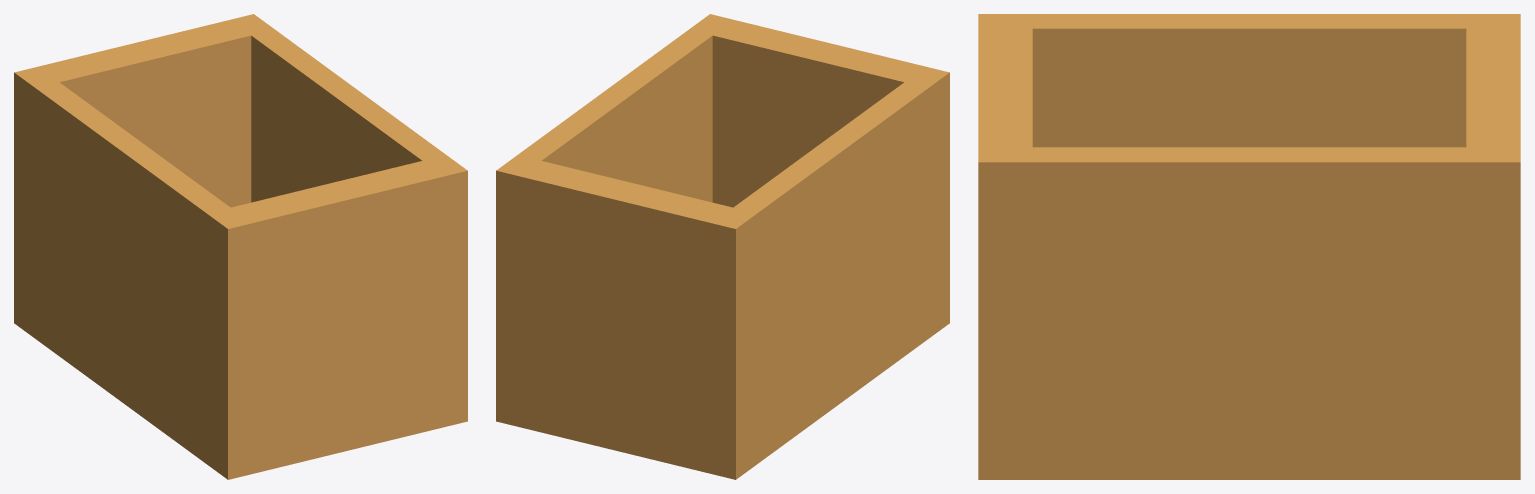
3 views of the same model, side by side, from view 1: azimuth 30°, elevation 25°; view 2: azimuth 150°, elevation 25°; view 3: azimuth 270°, elevation 25° (orthographic). The views are drawn at different scales.
Parts seen in each view (by area): view 1: Box2; view 2: Box2; view 3: Box2.
Part boxes in pixels (x1,y1,x2,y2): Box2: [14, 14, 467, 479]; Box2: [496, 14, 949, 479]; Box2: [978, 14, 1520, 479].
Size of the model in its own units: 14.02 by 14.02 by 21.68.
